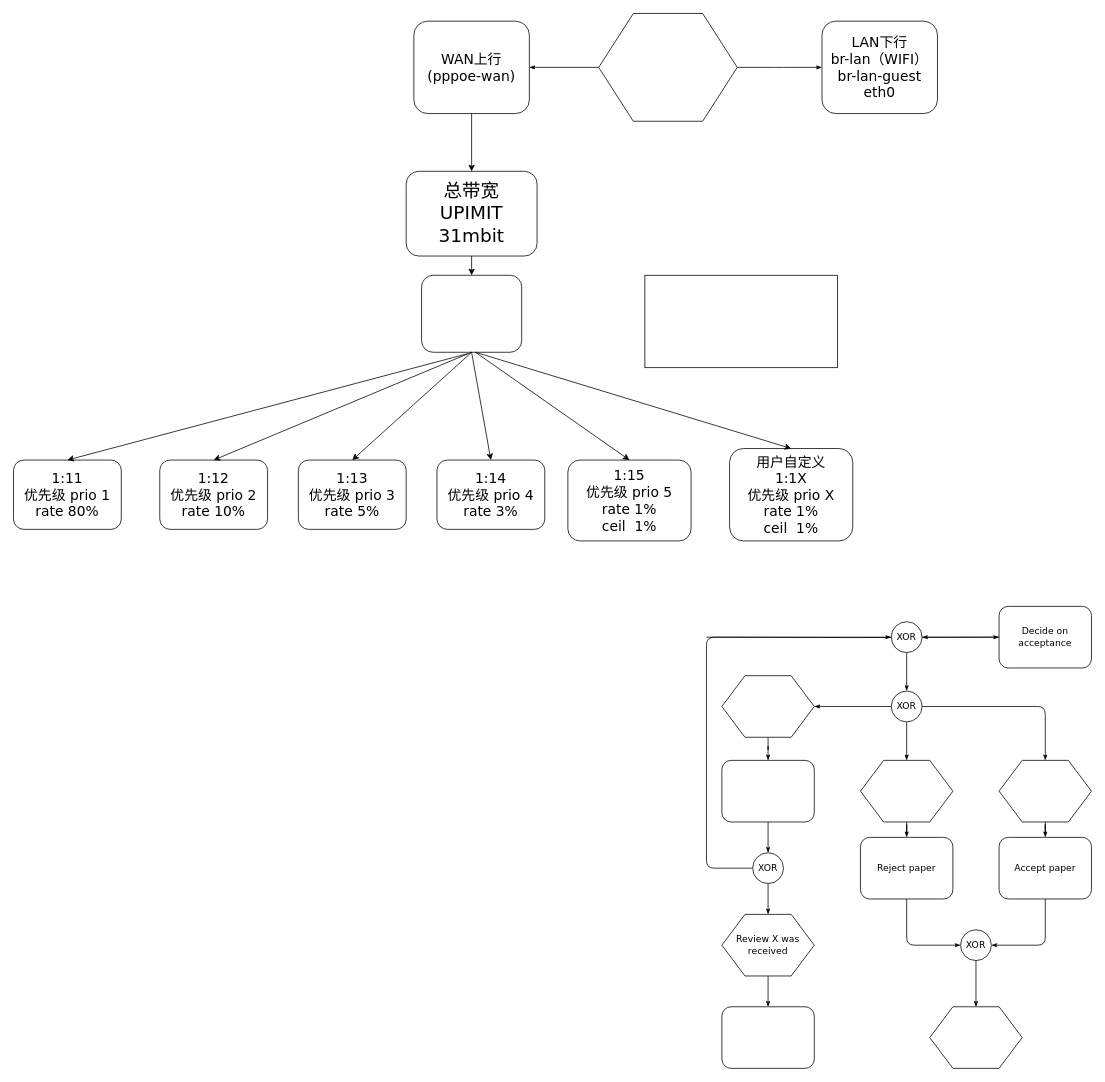
This 1105x1082 diagram has some shape labels left out. Each missing label, with the centre of its shape:
"1:1 优先级 prio 0 31mbit" belongs at point 471,313.
"Additional review is needed" belongs at point 767,706.
"Combine review X with others" belongs at point 767,1037.
"End" belongs at point 975,1037.
"Invite additional reviewer" belongs at point 767,791.
"Paper should be accepted" belongs at point 1044,791.
"Paper should be rejected" belongs at point 906,791.
"限速 Qos" belongs at point 667,67.
"除了1：16" belongs at point 740,321.
